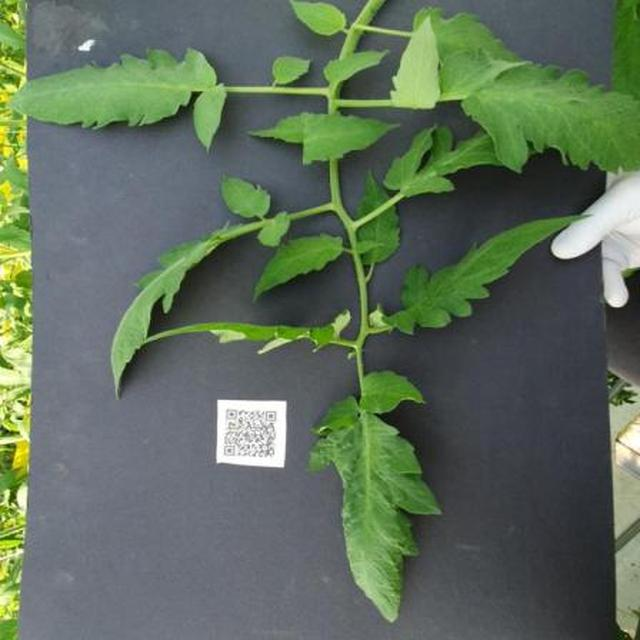Healthy Leaf: (74, 26, 640, 640)
